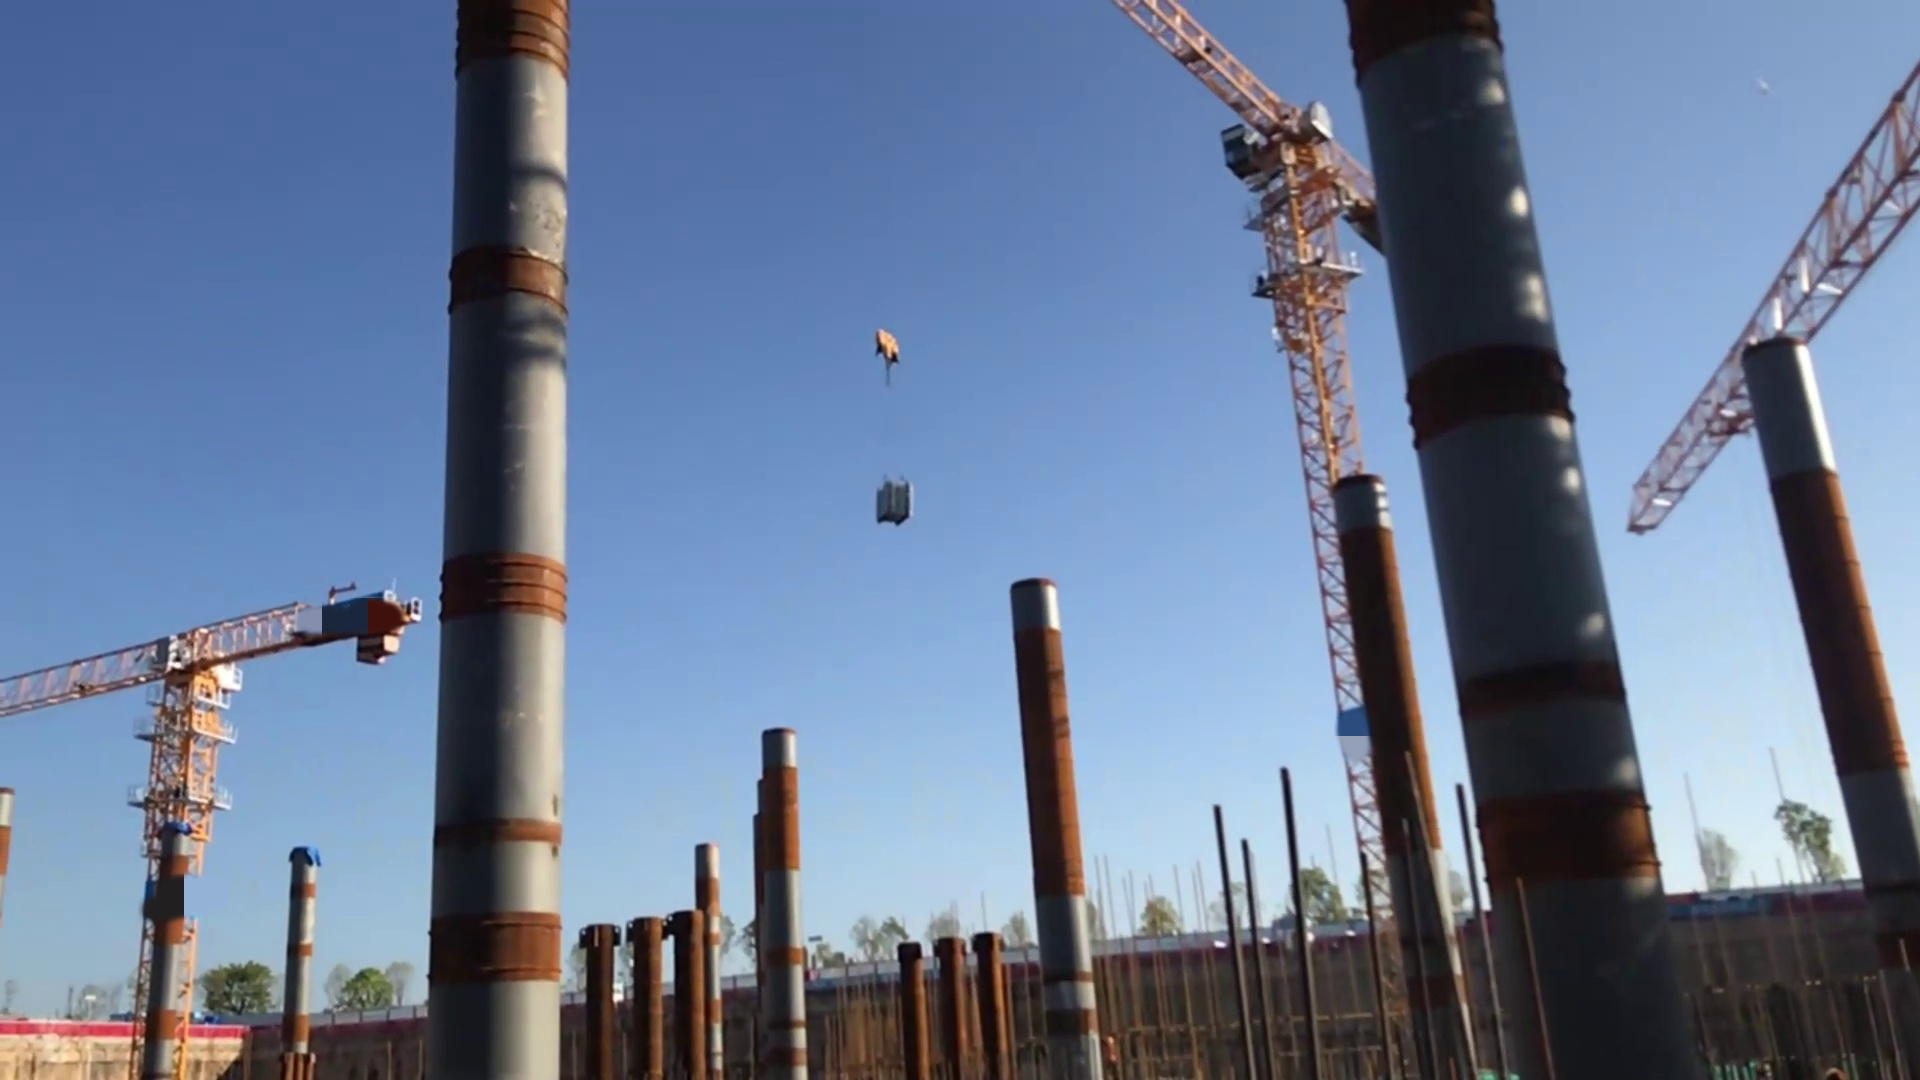hook: (873, 324, 905, 371)
